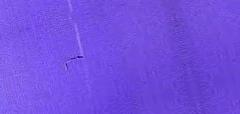snag: (63, 53, 89, 72)
